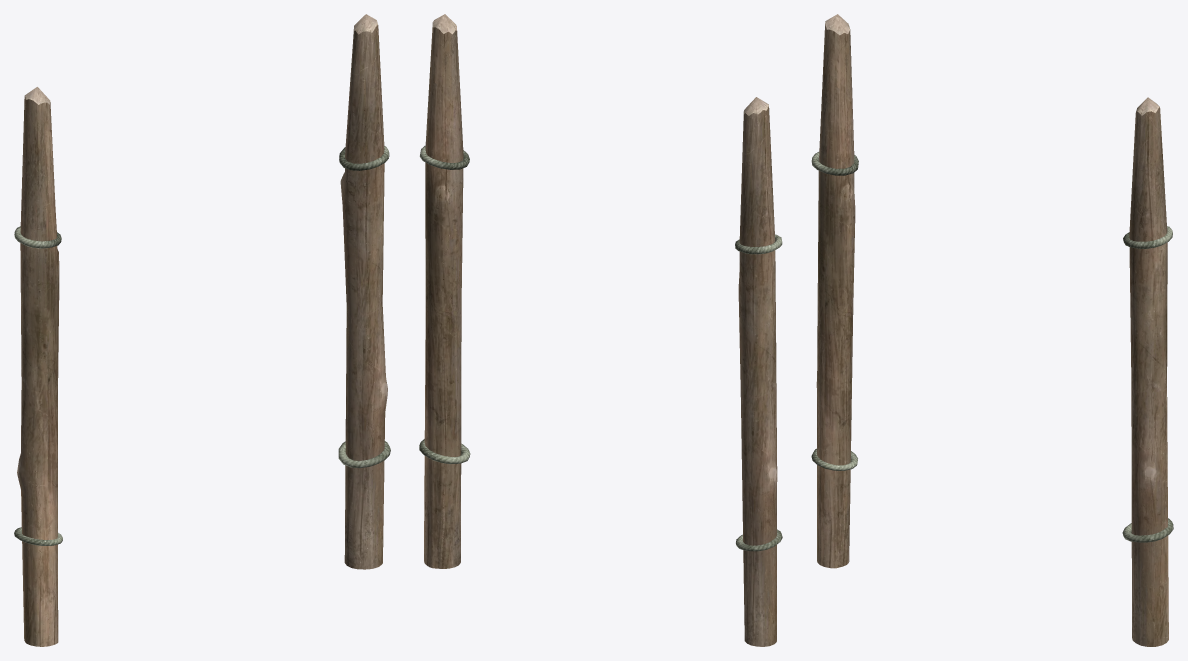
The picture shows the model from 3 angles, left to right: view 1: azimuth 30°, elevation 25°; view 2: azimuth 150°, elevation 25°; view 3: azimuth 330°, elevation 25°; orthographic projection.
Visible parts, largest first — view 1: SM_BB_T1_Pallisades_Gate_LOD0; view 2: SM_BB_T1_Pallisades_Gate_LOD0; view 3: SM_BB_T1_Pallisades_Gate_LOD0.
Boxes of the visible parts, bbox=[...] form: SM_BB_T1_Pallisades_Gate_LOD0: bbox=[14, 14, 390, 646]; SM_BB_T1_Pallisades_Gate_LOD0: bbox=[419, 14, 782, 646]; SM_BB_T1_Pallisades_Gate_LOD0: bbox=[811, 14, 1173, 646].
Bounding box in the file's own units: 3.07 × 4.43 × 0.4293.
Materials: 1 (1 with a texture image).
